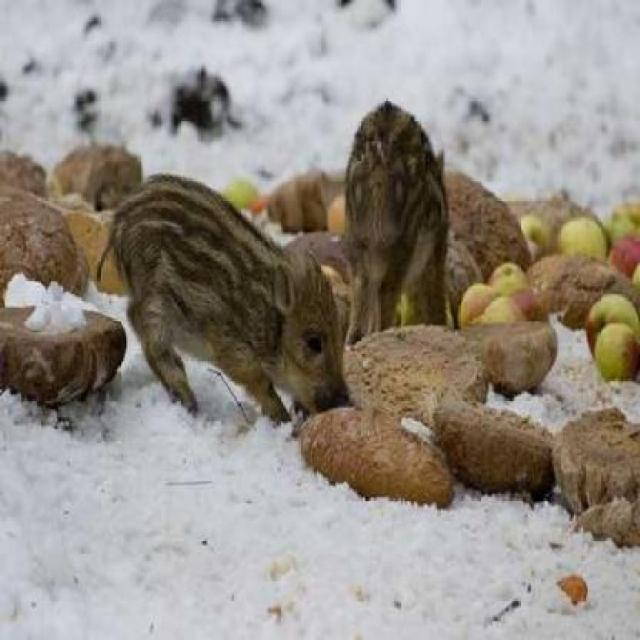pig: (89, 128, 372, 448), (326, 34, 489, 366)
